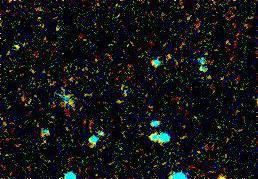star: (207, 160, 237, 179)
